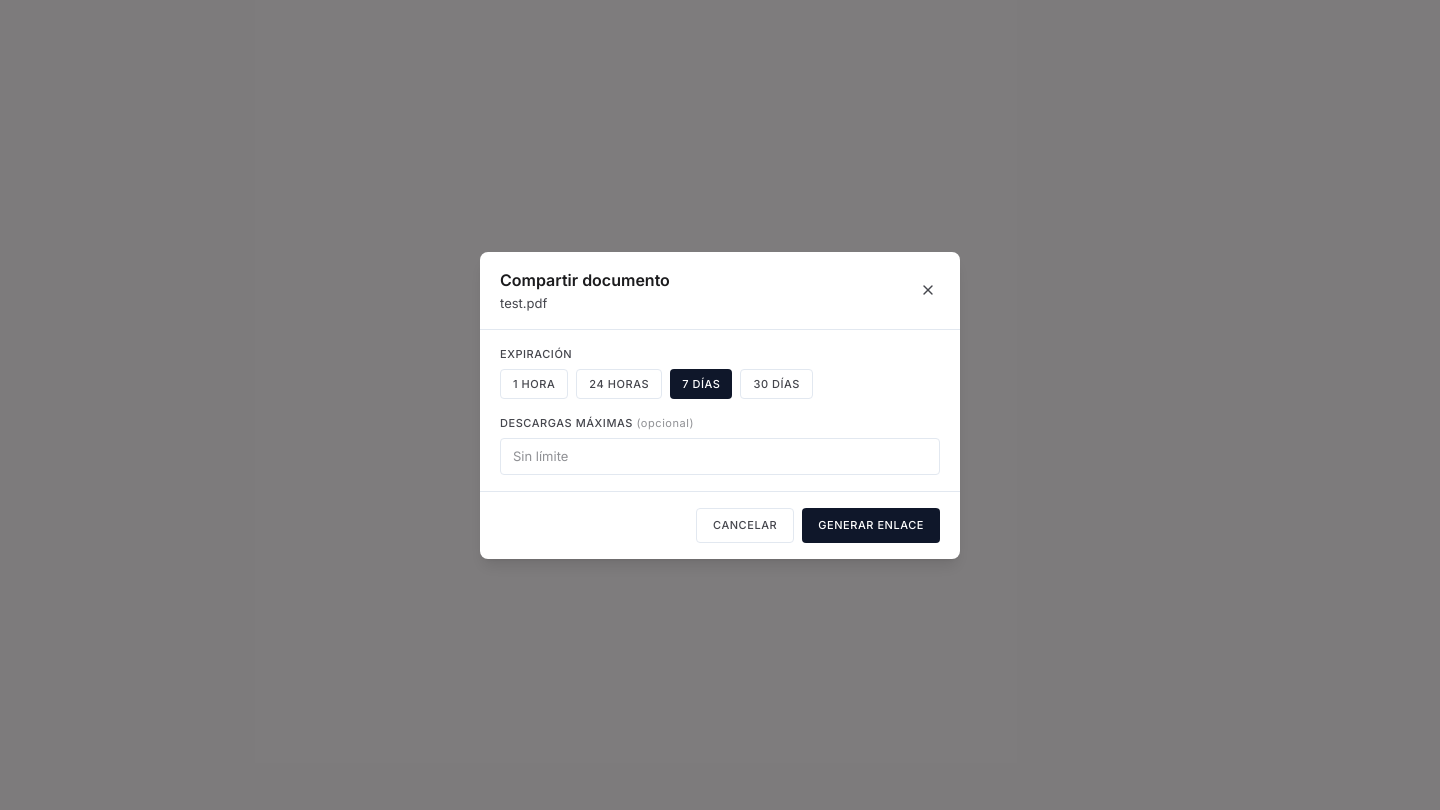
Scenario: ShareDialog › shows error state when creation fails
What coordinates should you click on to do the following:
click the button with test id "share-create"
I would click on:
 (871, 525)
Its box is [802,508,940,542].
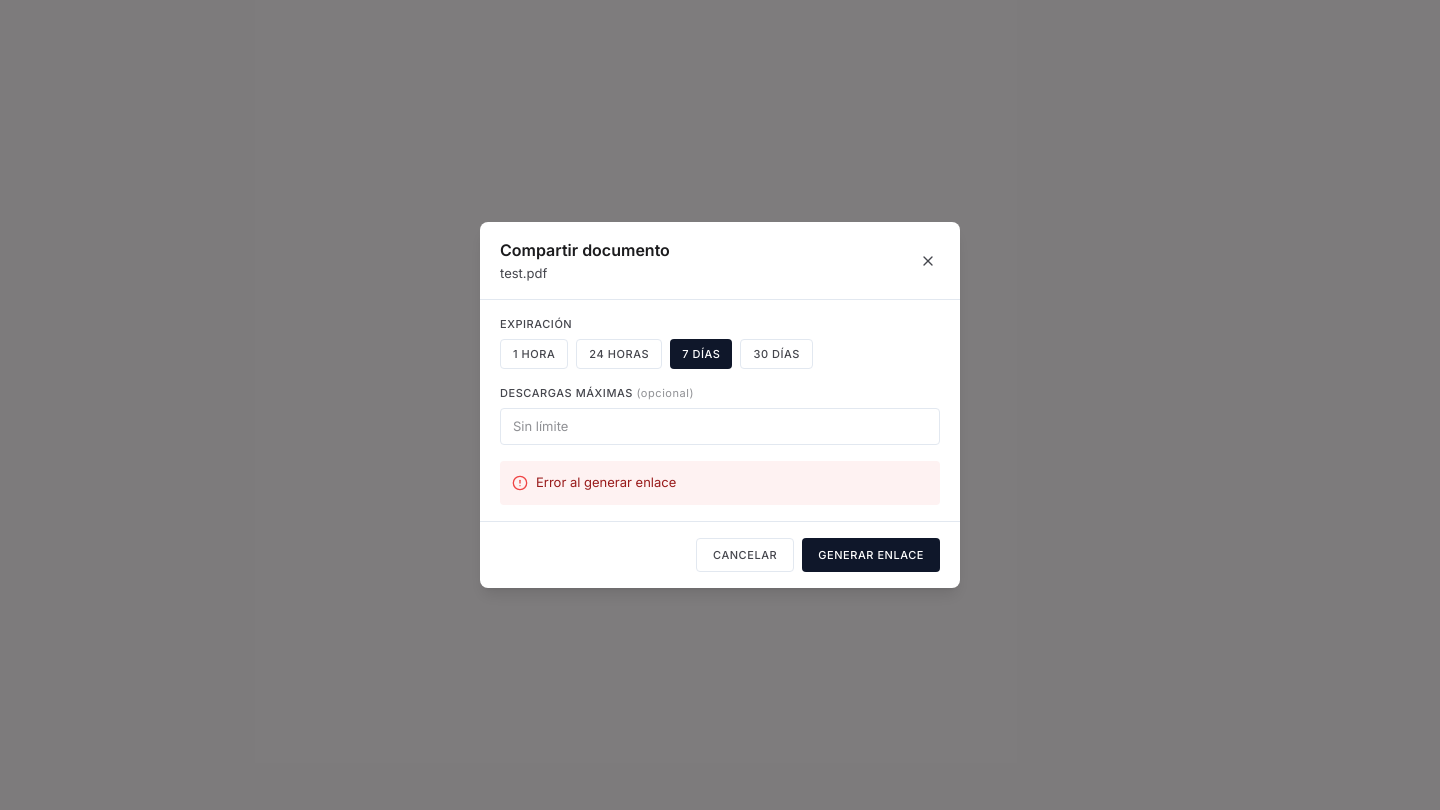
Now the text "Error al generar enlace" is shown, box [536,473,676,493]
